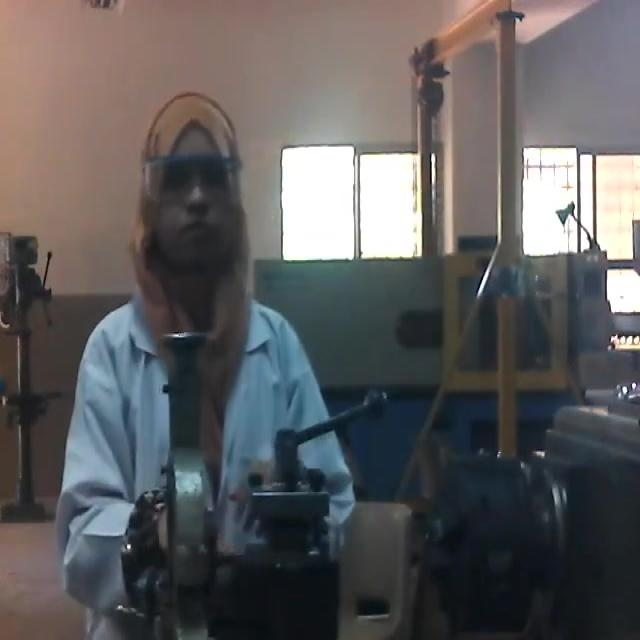googles: (138, 150, 254, 217)
labcoat: (59, 283, 362, 640)
